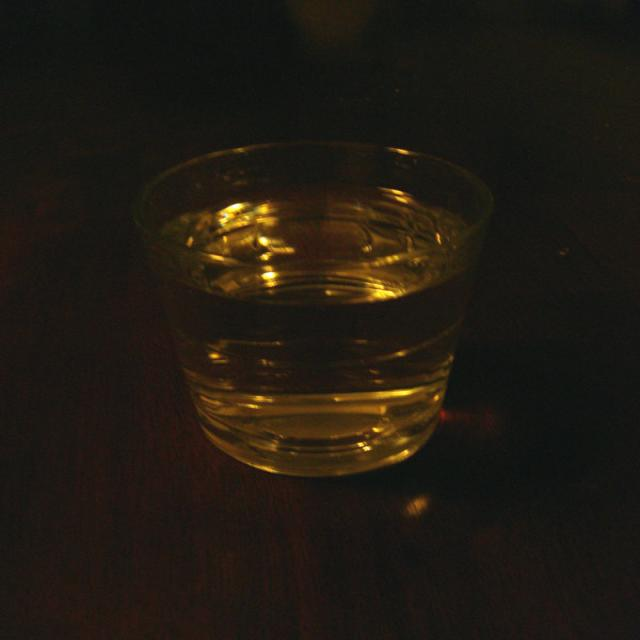Cup: (141, 126, 506, 476)
